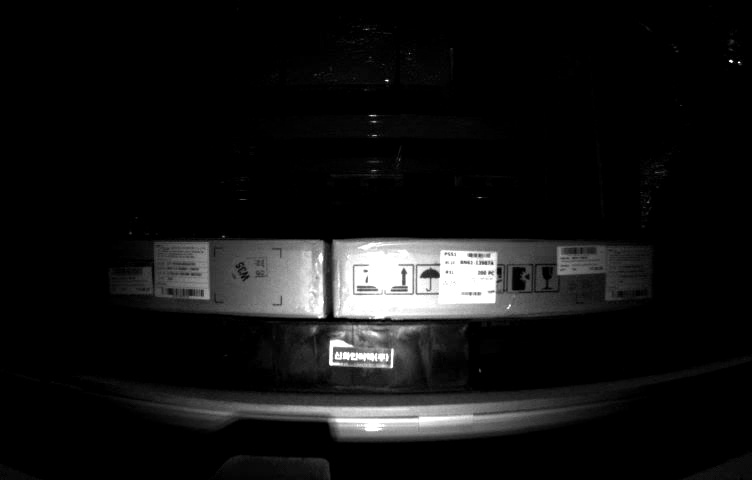True Barcode: (439, 248, 496, 305)
